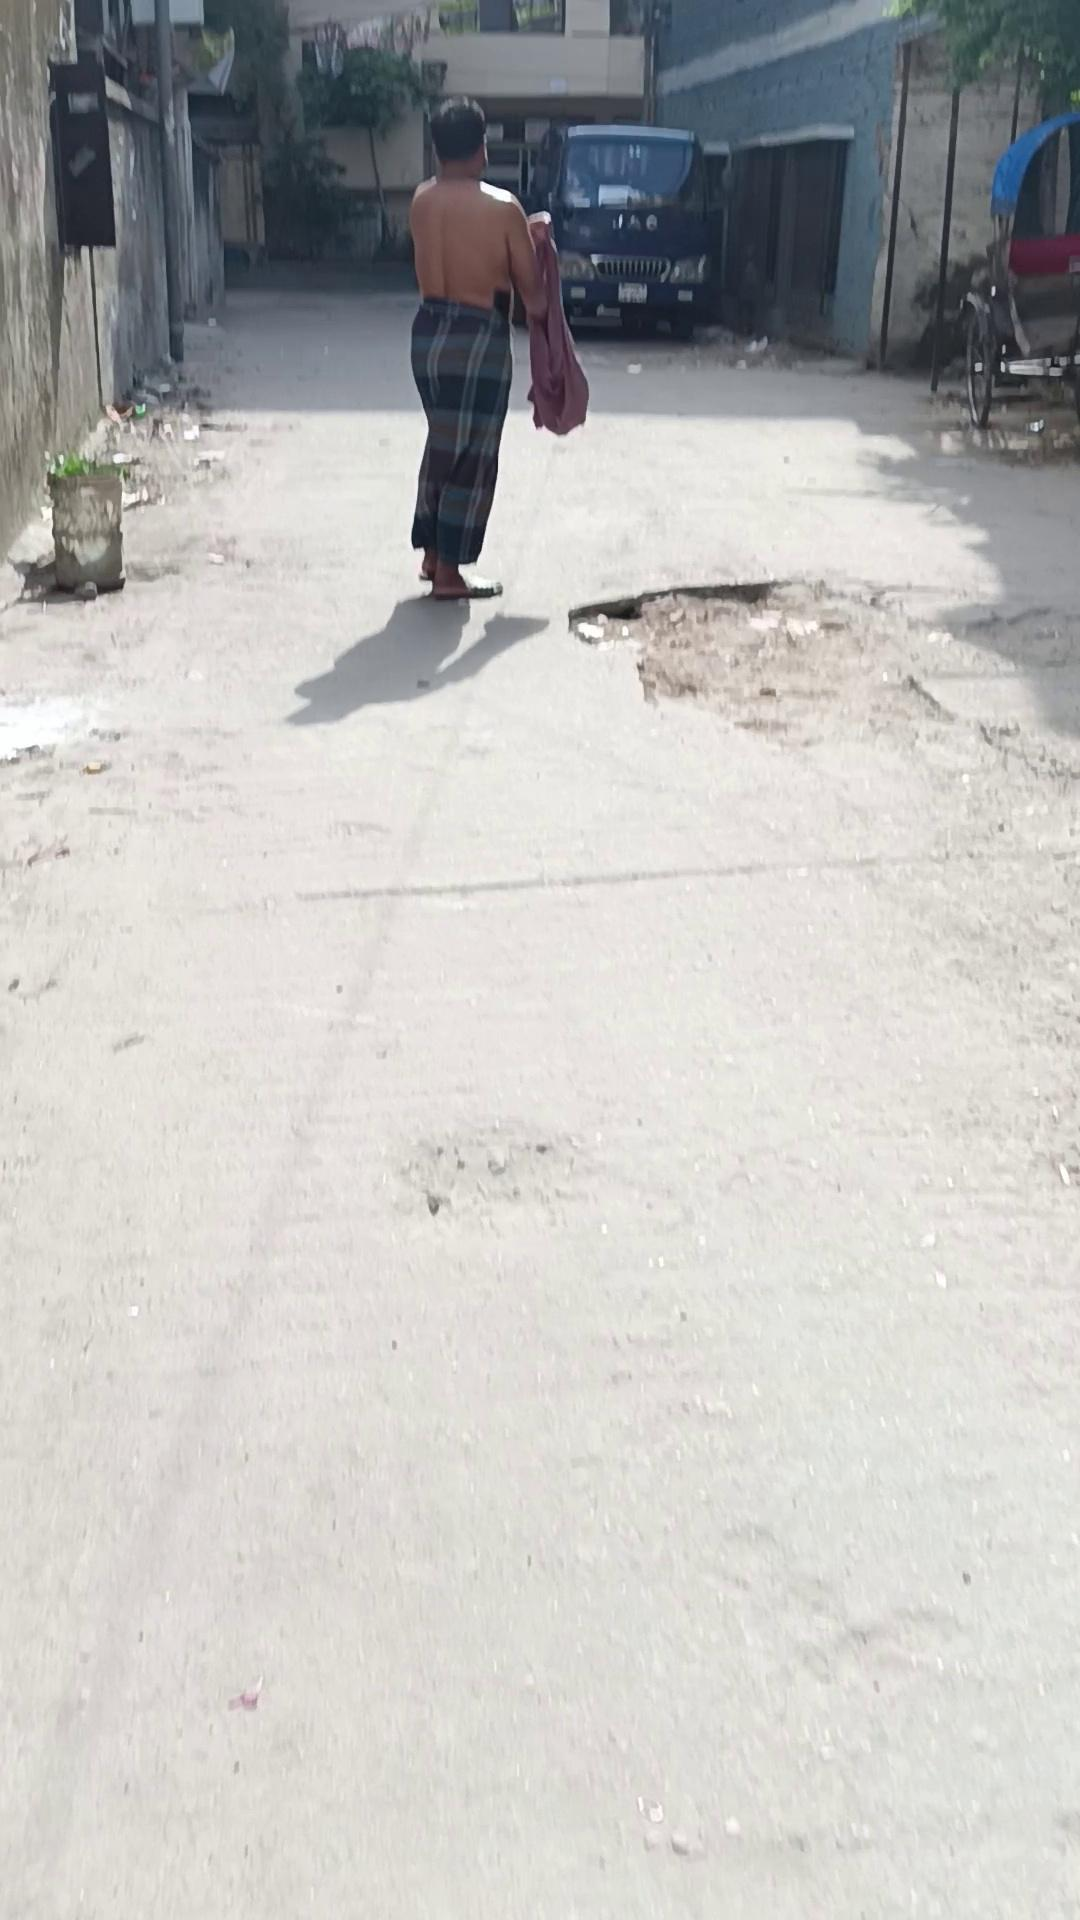Broken-road: (13, 289, 1080, 1920)
Crosswalk: (564, 572, 783, 632)
Motorcycle: (44, 446, 136, 597)
Muddy road: (406, 96, 553, 600)
Pothole: (957, 109, 1077, 431)
Traffic-sign: (526, 121, 732, 342)
